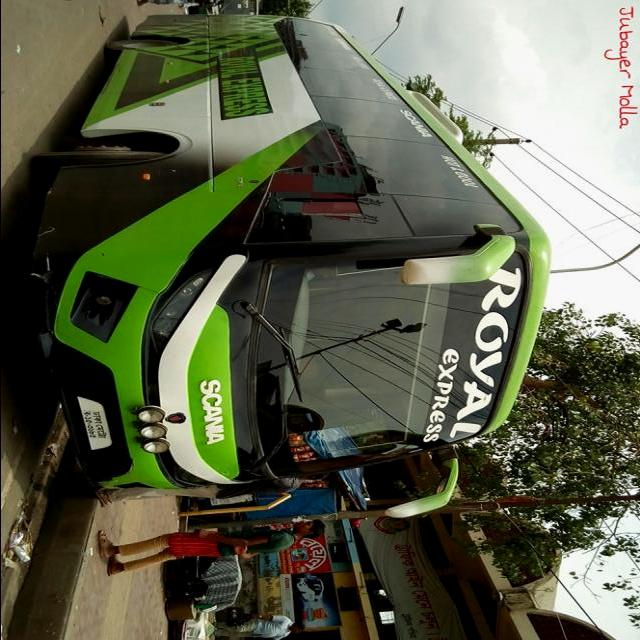bus: (26, 13, 551, 522)
